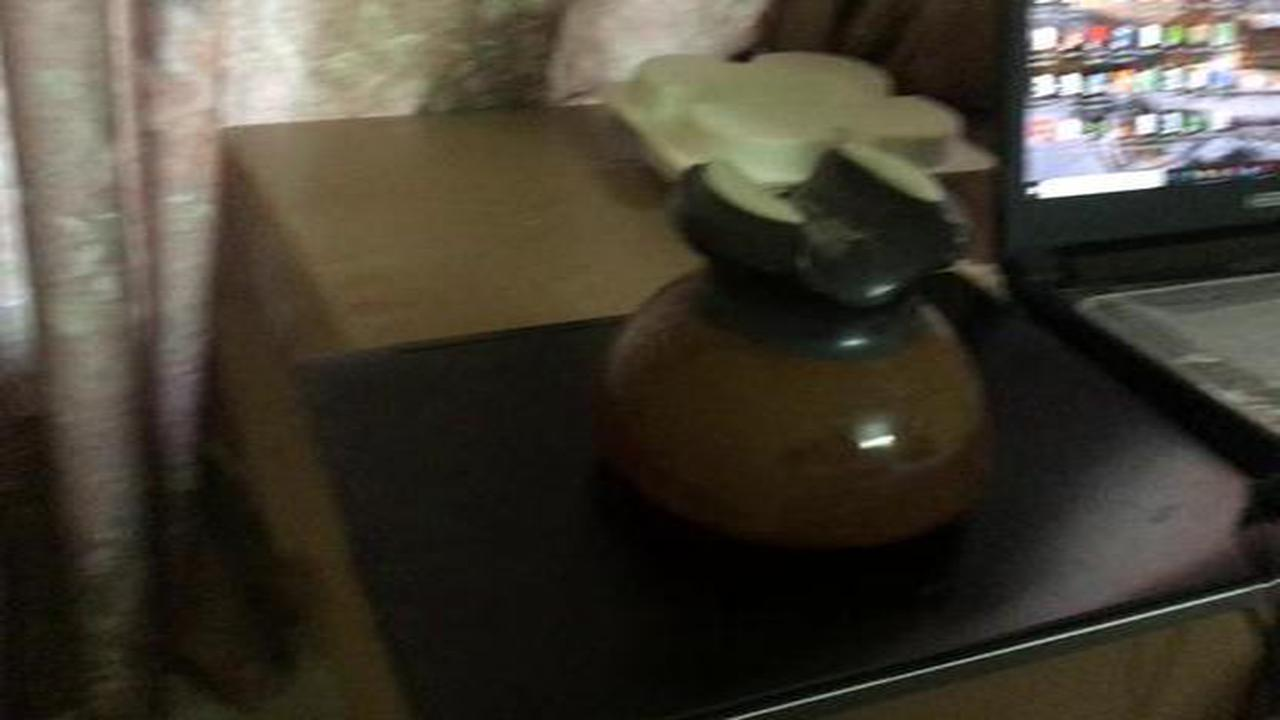insulator_pin: (582, 136, 1004, 568)
